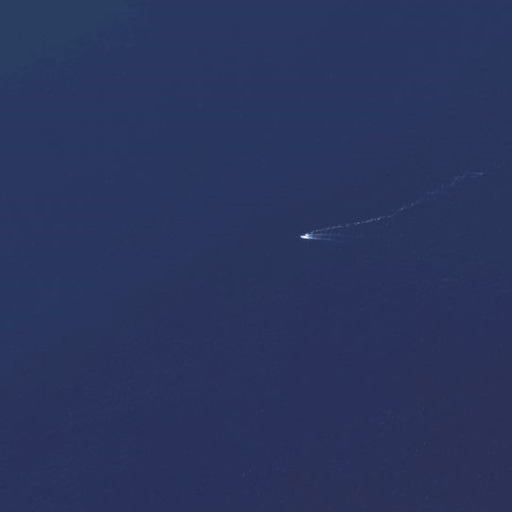ship: (296, 230, 316, 242)
